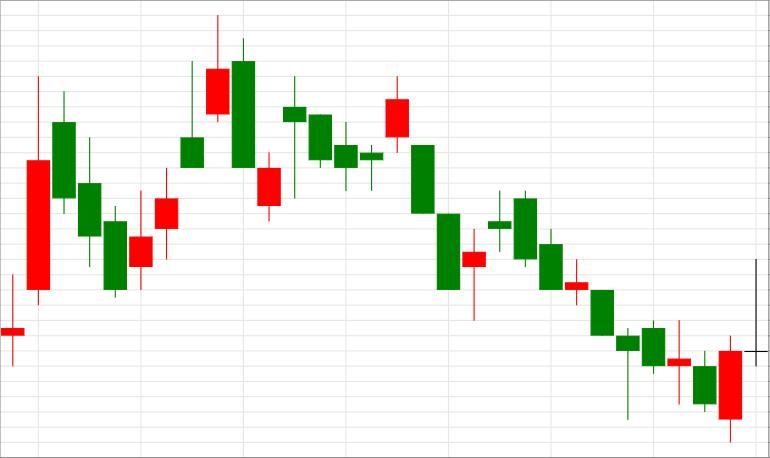bullish_engulfing_rise: (488, 191, 742, 443)
shooting_star_fall: (104, 14, 229, 298)
